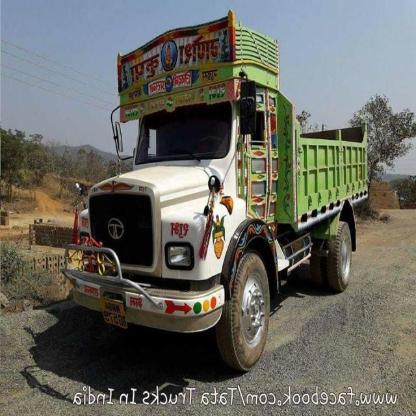truck: (68, 40, 368, 350)
